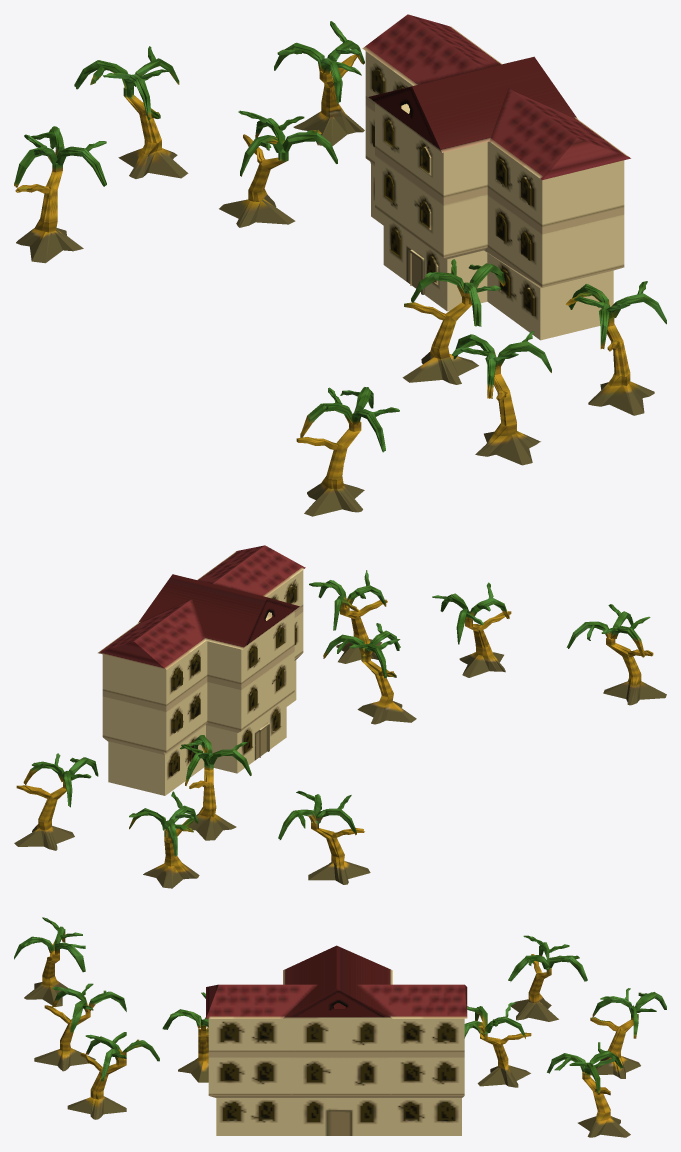
File: Asylum.glb
The picture shows the model from 3 angles, top to bottom: view 1: azimuth 30°, elevation 25°; view 2: azimuth 150°, elevation 25°; view 3: azimuth 270°, elevation 25°; orthographic projection. The views are drawn at different scales.
Parts seen in each view (by area): view 1: Asylum; view 2: Asylum; view 3: Asylum.
Part boxes in pixels (x1,y1,x2,y2): Asylum: [14, 14, 666, 516]; Asylum: [14, 545, 666, 888]; Asylum: [14, 917, 666, 1137].
Bounding box in the file's own units: 158 × 69.32 × 277.
1 material, 1 textured.
